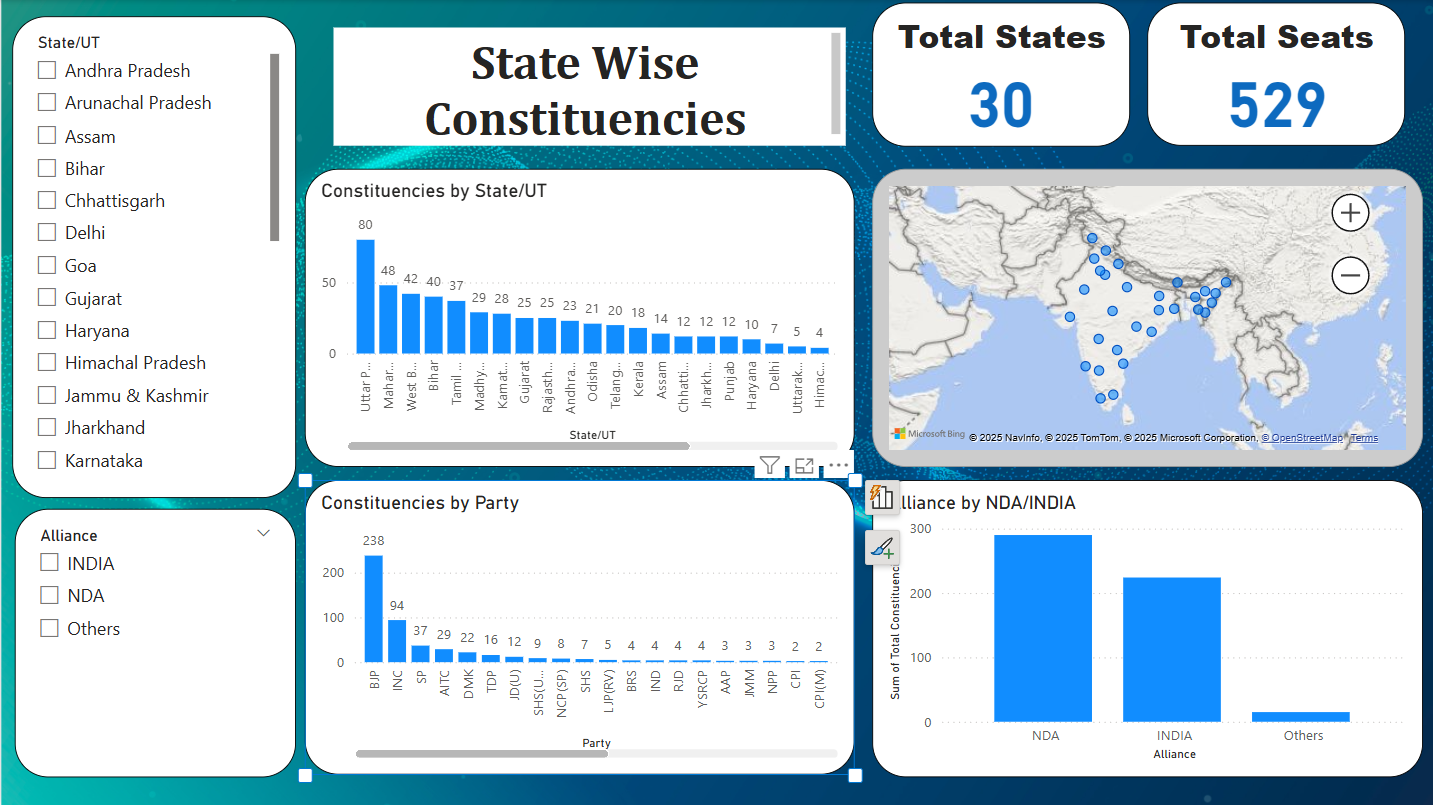

The page's visual inventory and layout, read from the dashboard file:
{"tool":"powerbi","page":{"name":"Page 1","canvas":[1280,720],"ordinal":0},"visuals":[{"type":"card","title":"Total States","fields":{"Values":["Count(constituency.State/UT)"]},"box":[777.8,2.2,230,128.9],"z":0},{"type":"card","title":"Total Seats","fields":{"Values":["Sum(constituency.Total Constituencies)"]},"box":[1024.4,2.2,230,127.8],"z":1000},{"type":"map","fields":{"Category":["constituency.State/UT"]},"box":[777.8,151.1,492.2,266.7],"z":2000},{"type":"clusteredColumnChart","title":"Constituencies by State/UT","fields":{"Category":["constituency.State/UT"],"Y":["Sum(constituency.Total Constituencies)"]},"box":[271.1,151.1,491.1,266.7],"z":3000},{"type":"clusteredColumnChart","title":"Alliance by NDA/INDIA","fields":{"Category":["constituency.Alliance"],"Y":["Sum(constituency.Total Constituencies)"]},"box":[777.8,428.9,492.2,265.6],"z":4000},{"type":"clusteredColumnChart","title":"Constituencies by Party","fields":{"Y":["Sum(constituency.Total Constituencies)"],"Category":["constituency.Party"]},"box":[271.1,428.9,491.1,263.3],"z":5000},{"type":"slicer","fields":{"Values":["constituency.State/UT"]},"box":[10,14.4,253.3,430],"z":6000},{"type":"slicer","fields":{"Values":["constituency.Alliance"]},"box":[12.2,454.4,251.1,240],"z":7000},{"type":"textbox","box":[296.7,24.4,457.8,105.6],"z":8000}]}

Visuals, with their boxes in screenshot pixels (x1, y1, x2, y2), scaled from the page's 1280x720 canvas onto the 1433x805 screenshot:
"Total States" card: (left=871, top=2, right=1128, bottom=147)
"Total Seats" card: (left=1147, top=2, right=1404, bottom=145)
map - constituency.State/UT: (left=871, top=169, right=1422, bottom=467)
"Constituencies by State/UT" clusteredColumnChart: (left=304, top=169, right=853, bottom=467)
"Alliance by NDA/INDIA" clusteredColumnChart: (left=871, top=480, right=1422, bottom=776)
"Constituencies by Party" clusteredColumnChart: (left=304, top=480, right=853, bottom=774)
slicer - constituency.State/UT: (left=11, top=16, right=295, bottom=497)
slicer - constituency.Alliance: (left=14, top=508, right=295, bottom=776)
textbox: (left=332, top=27, right=845, bottom=145)
